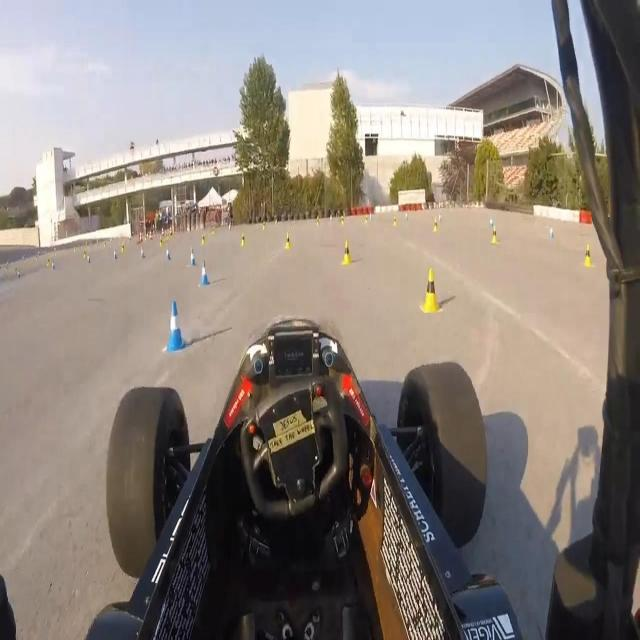blue_cone: (163, 299, 188, 354), (199, 258, 212, 289), (189, 247, 197, 267), (164, 246, 173, 262), (549, 225, 555, 241), (488, 214, 494, 228), (140, 247, 146, 260), (438, 212, 444, 223), (52, 258, 57, 271), (113, 247, 117, 262), (88, 252, 91, 266)
large_orange_cone: (138, 230, 144, 243), (150, 228, 154, 242)
yellow_cone: (418, 268, 445, 316), (341, 239, 352, 266), (582, 242, 593, 269), (284, 232, 292, 249), (492, 227, 499, 246), (119, 241, 126, 254), (392, 214, 398, 228), (433, 219, 438, 235), (241, 232, 246, 247), (364, 214, 370, 226), (201, 233, 206, 246), (340, 215, 345, 228), (315, 215, 320, 227), (262, 222, 267, 232), (47, 257, 51, 269), (83, 248, 87, 259)
